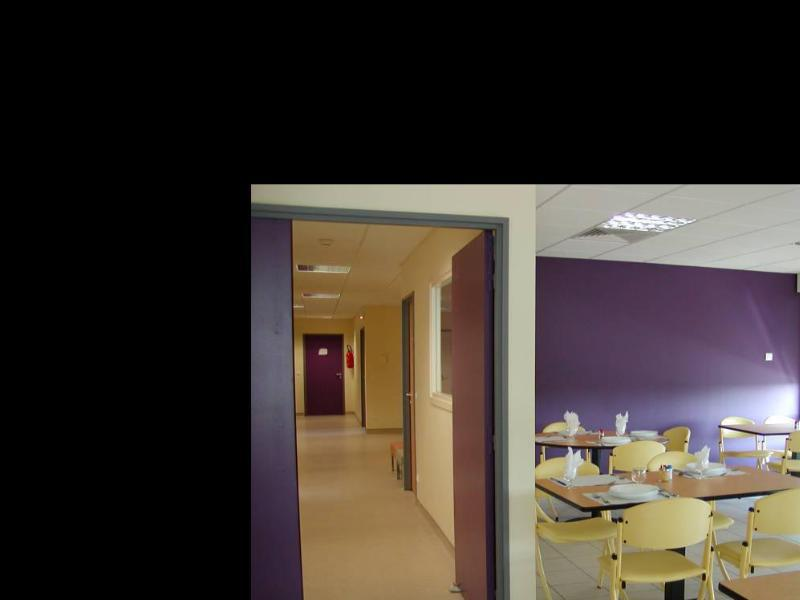Puerta: (447, 241, 504, 600)
